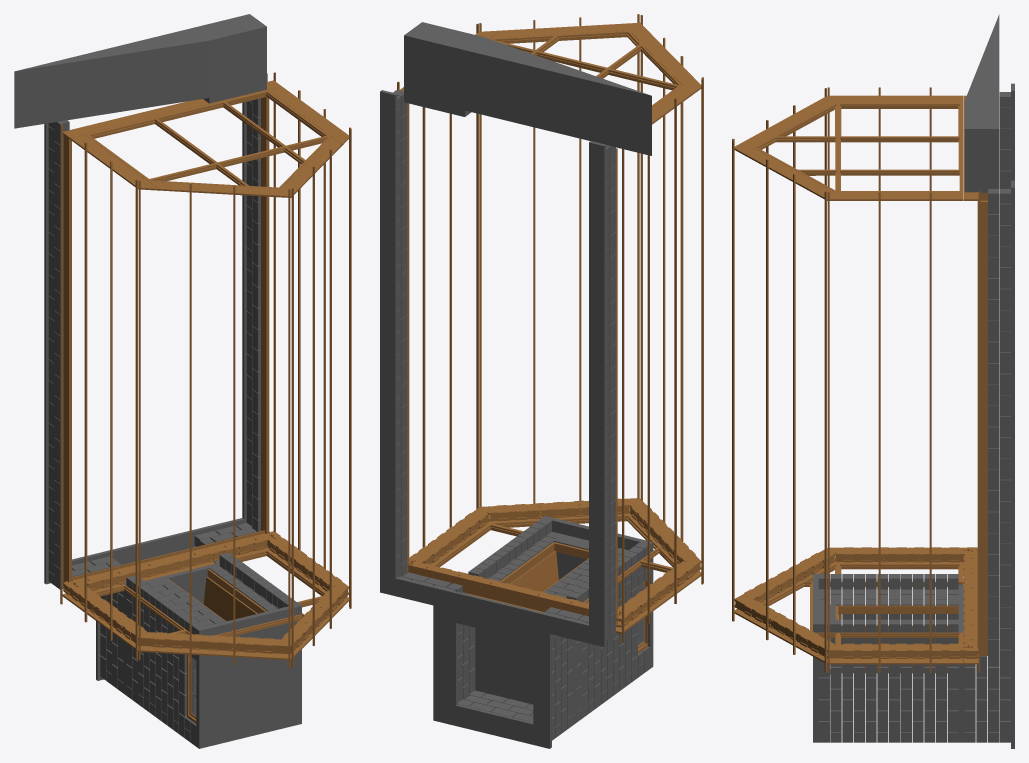
3 renders of one model, left to right at view 1: azimuth 30°, elevation 25°; view 2: azimuth 150°, elevation 25°; view 3: azimuth 270°, elevation 25°, orthographic. The views are drawn at different scales.
Parts seen in each view (by area): view 1: Rampa_Plane.008, Lajes_Plane.006, Wikihouse.001_Side_right_corner_001, Tampa_Plane.018, Esquadria.001_Plane.005, Bloco.068_Plane.001, Viga.001_Plane, Viga_Plane, Bloco.065_Plane.001, Bloco.067_Plane.001, Bloco.066_Plane.001, Fundação.002_Plane.003 (+26 smaller); view 2: Rampa_Plane.008, Fundação_Plane.007, Wikihouse.001_Side_right_corner_001, Fundação.002_Plane.003, Fundação.001_Plane.003, Lajes_Plane.006, Bloco.068_Plane.001, Bloco.065_Plane.001, Tampa_Plane.018, Esquadria.001_Plane.005, Esquadria_Plane.016, Porta.001_Plane.020 (+26 smaller); view 3: Wikihouse.001_Side_right_corner_001, Bloco.065_Plane.001, Bloco.066_Plane.001, Esquadria.001_Plane.005, Rampa_Plane.008, Tampa_Plane.018, Viga_Plane, Esquadria_Plane.016, Lajes_Plane.006, Fundação.001_Plane.003, Tampa.001_Plane.019, Suporte_polietileno.002_Plane.004 (+25 smaller).
Part boxes in pixels (<box>): Rampa_Plane.008: <box>14,14,266,128</box>; Lajes_Plane.006: <box>123,562,301,748</box>; Wikihouse.001_Side_right_corner_001: <box>63,530,348,653</box>; Tampa_Plane.018: <box>62,80,349,197</box>; Esquadria.001_Plane.005: <box>85,90,331,188</box>; Bloco.068_Plane.001: <box>54,120,69,589</box>; Viga.001_Plane: <box>63,135,71,582</box>; Viga_Plane: <box>261,97,269,533</box>; Bloco.065_Plane.001: <box>252,73,267,531</box>; Bloco.067_Plane.001: <box>48,126,54,574</box>; Bloco.066_Plane.001: <box>246,100,252,526</box>; Fundação.002_Plane.003: <box>44,123,50,584</box>; Rampa_Plane.008: <box>404,22,651,155</box>; Fundação_Plane.007: <box>395,577,588,748</box>; Wikihouse.001_Side_right_corner_001: <box>408,498,701,627</box>; Fundação.002_Plane.003: <box>589,141,606,646</box>; Fundação.001_Plane.003: <box>380,90,397,595</box>; Lajes_Plane.006: <box>474,516,653,724</box>; Bloco.068_Plane.001: <box>606,145,615,637</box>; Bloco.065_Plane.001: <box>393,89,407,576</box>; Tampa_Plane.018: <box>400,22,701,124</box>; Esquadria.001_Plane.005: <box>490,31,682,107</box>; Esquadria_Plane.016: <box>432,515,677,602</box>; Porta.001_Plane.020: <box>500,542,588,591</box>; Wikihouse.001_Side_right_corner_001: <box>734,547,978,658</box>; Bloco.065_Plane.001: <box>988,189,999,660</box>; Bloco.066_Plane.001: <box>999,203,1010,649</box>; Esquadria.001_Plane.005: <box>754,102,963,192</box>; Rampa_Plane.008: <box>964,14,999,192</box>; Tampa_Plane.018: <box>734,95,978,200</box>; Viga_Plane: <box>977,200,987,655</box>; Esquadria_Plane.016: <box>762,563,963,645</box>; Lajes_Plane.006: <box>813,574,964,742</box>; Fundação.001_Plane.003: <box>1011,180,1014,664</box>; Tampa.001_Plane.019: <box>734,560,978,664</box>; Suporte_polietileno.002_Plane.004: <box>732,140,734,621</box>.
Size of the model in its own units: 4968 by 12004 by 4828.
